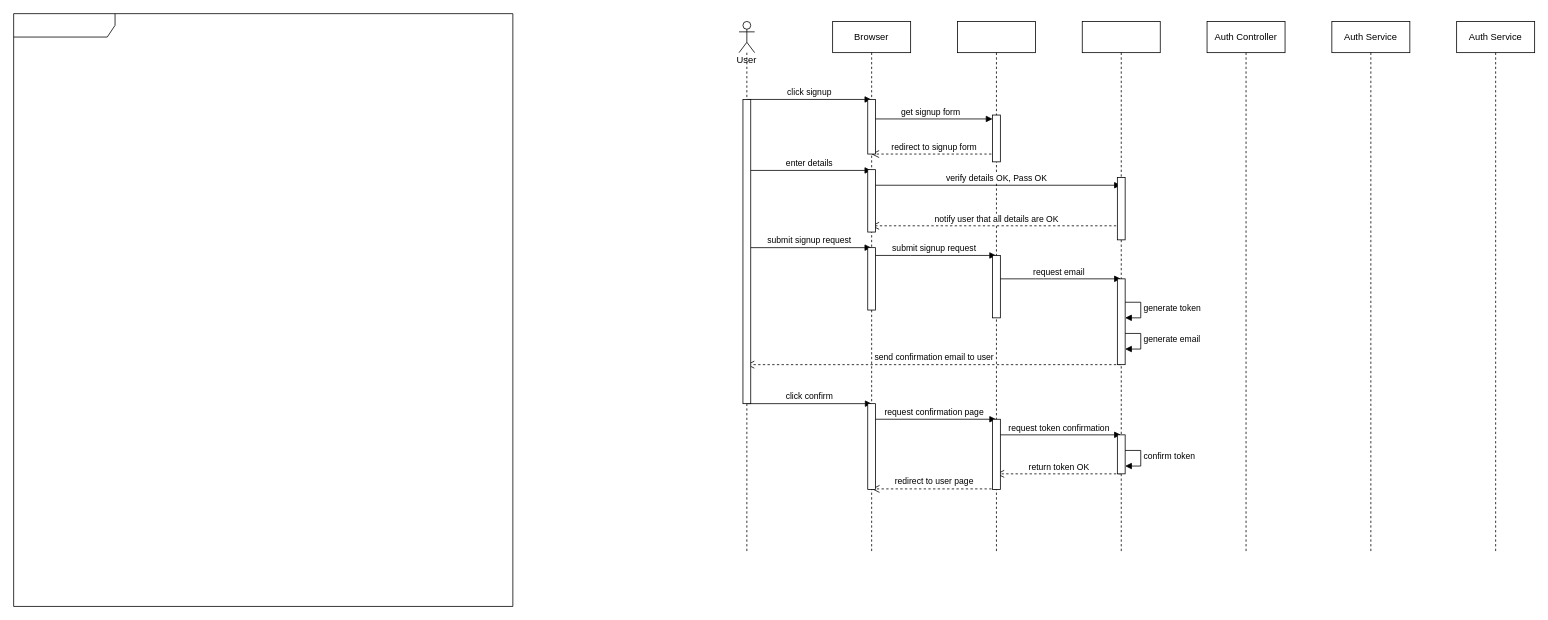
Image size: 1548x620. Some labels were removed from this diagram. Here are the shapes that lost their labels. From the top down, the box of each, then its label:
(957, 21, 1035, 552): App
(1081, 21, 1160, 552): HTTP Client
(13, 13, 513, 606): User Registration
